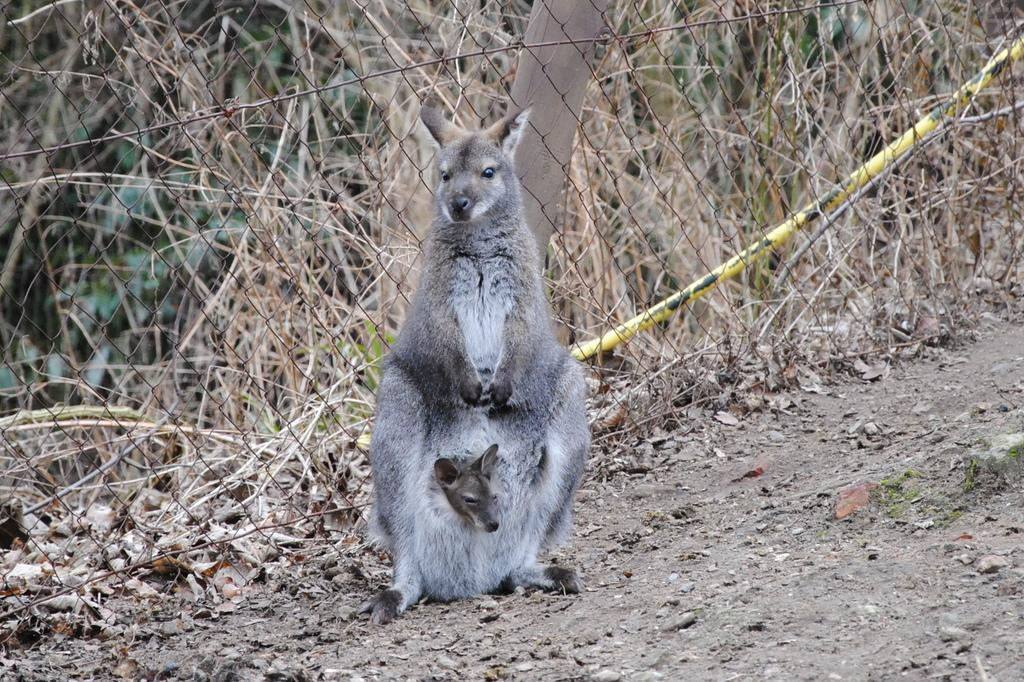kangaroo: (366, 101, 588, 624), (436, 441, 504, 531)
